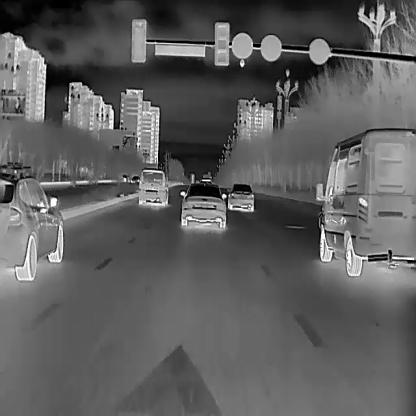car: (313, 126, 415, 278), (0, 168, 64, 281), (179, 180, 226, 228), (136, 166, 168, 206), (226, 182, 254, 210), (129, 175, 139, 183)
